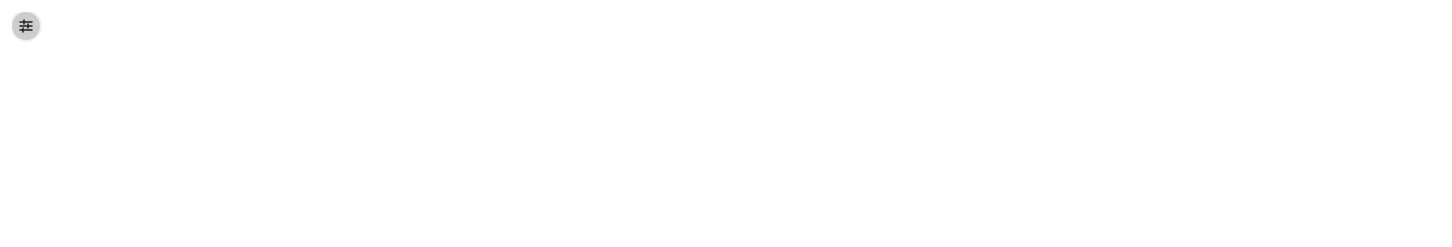
Test: ViewControlsMenu › opens a menu with Code, PDF, Sidebar and Assistant switches
Later steps or results of the test are not shown.
Click the button named "View controls".
click(26, 26)  # box x1=12 y1=12 x2=40 y2=40
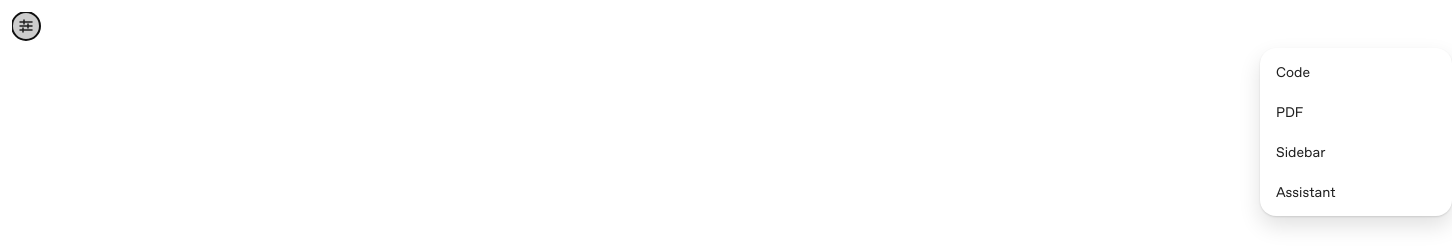
Result: the element with test id "view-controls-menu" is shown at x1=1260 y1=48 x2=1451 y2=216
